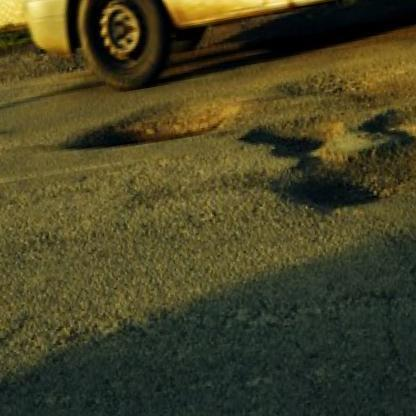pothole: (259, 130, 416, 224), (60, 94, 245, 159), (274, 39, 416, 116), (237, 108, 351, 161), (352, 83, 416, 136)
